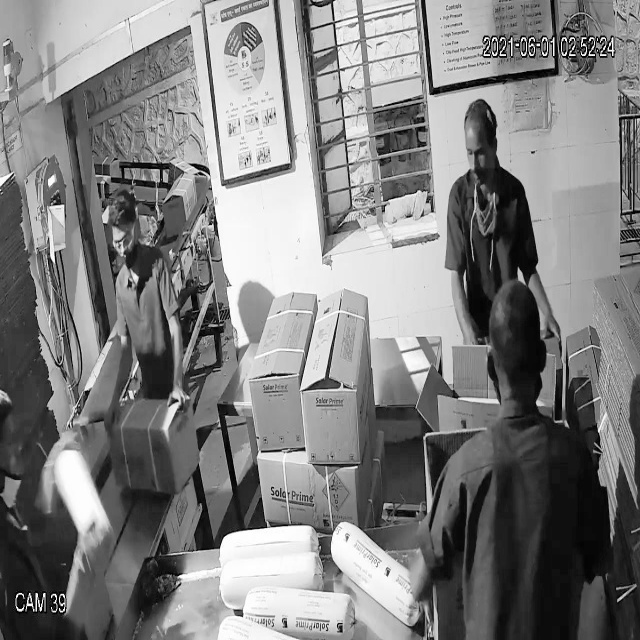Gafas: (108, 220, 142, 260)
Sin_gafas: (460, 135, 501, 164)
